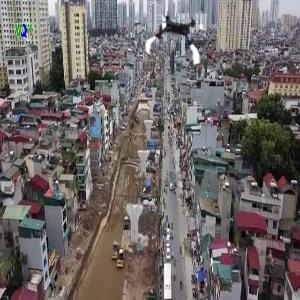drone: (143, 8, 208, 73)
